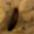cockroach: (7, 7, 19, 32)
